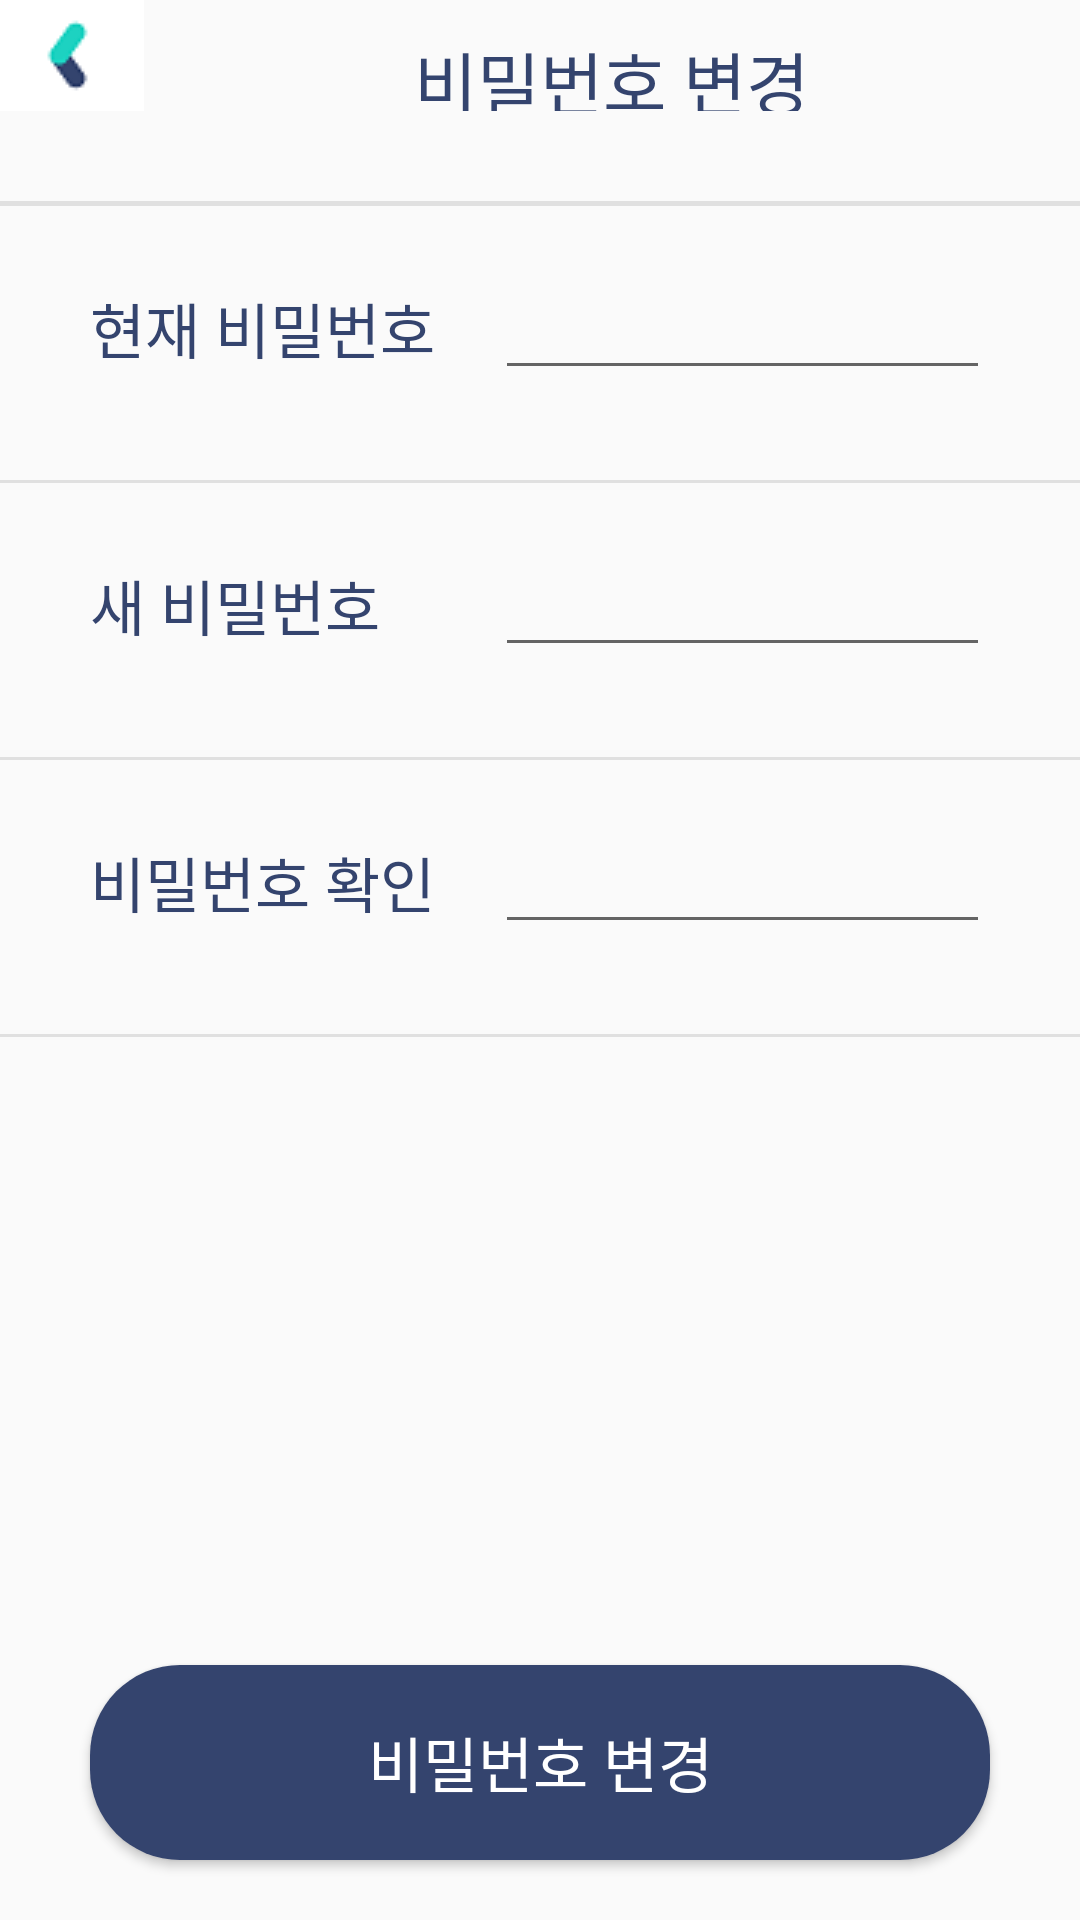

Screen size 1080w x 1920h. Icon name, then its box in pixels as (x1, y1, x2, y2):
left: (47, 21, 88, 90)
